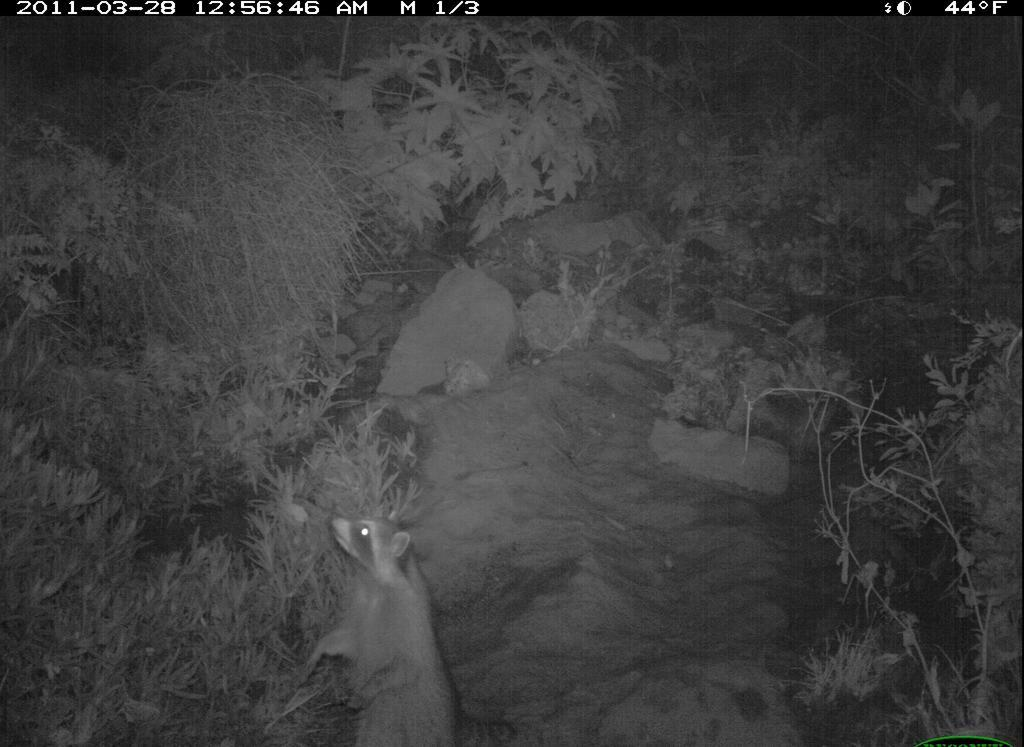raccoon: (297, 511, 469, 747)
